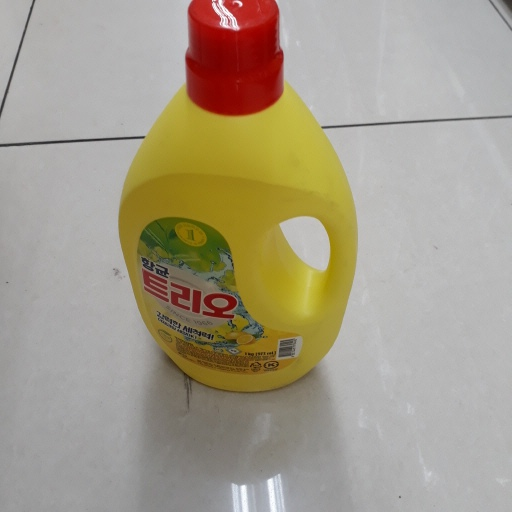Plastic_1: (109, 1, 357, 395)
